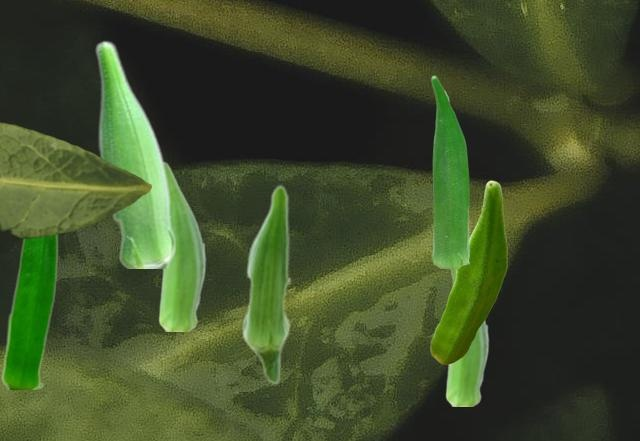okra: (94, 40, 174, 267), (430, 180, 506, 363), (241, 184, 290, 384), (1, 235, 58, 388), (158, 161, 205, 330), (431, 75, 468, 267), (445, 268, 488, 405)
